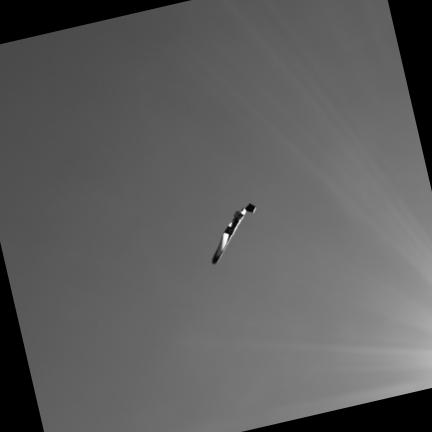Shahed: (213, 204, 255, 263)
